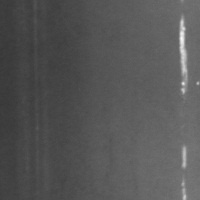scratches: (175, 14, 192, 99), (177, 144, 191, 200)
